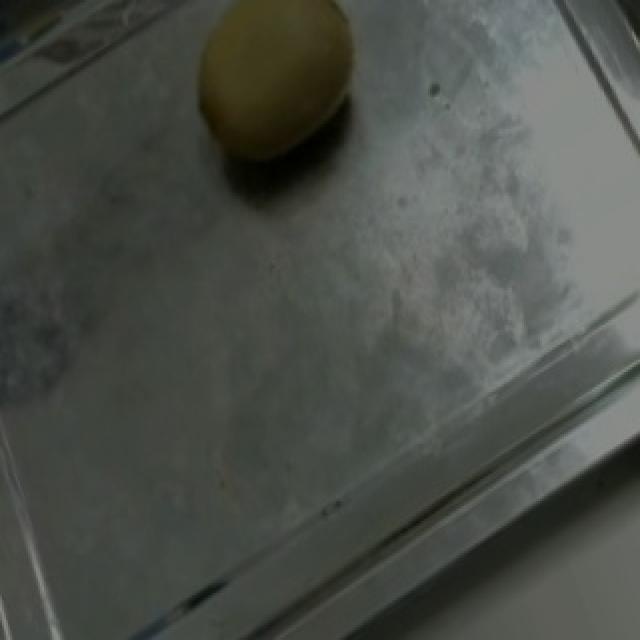Fruit: (158, 0, 398, 189)
